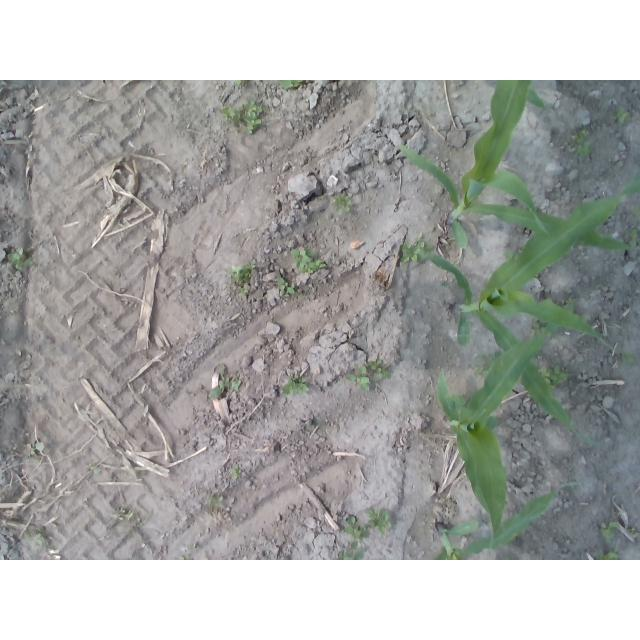Maize: (424, 182, 640, 445), (397, 80, 640, 256), (436, 300, 573, 557), (428, 480, 580, 561), (450, 81, 546, 112)
Weeds: (218, 99, 262, 134), (208, 365, 240, 400), (401, 233, 436, 264), (290, 248, 326, 274), (277, 278, 315, 299), (537, 364, 570, 388), (569, 127, 594, 157), (470, 351, 498, 377), (368, 509, 393, 535), (346, 365, 371, 391), (343, 514, 366, 542), (6, 247, 34, 270), (333, 542, 365, 560), (368, 359, 393, 382), (226, 265, 255, 284), (283, 374, 309, 395), (116, 508, 144, 526), (21, 531, 45, 550), (332, 193, 352, 212), (594, 548, 623, 560), (601, 521, 619, 540), (612, 107, 632, 123), (531, 317, 547, 336), (26, 441, 45, 455), (229, 464, 243, 481), (209, 493, 224, 508), (281, 80, 303, 90), (628, 227, 639, 246), (502, 250, 518, 261), (626, 526, 639, 538), (621, 352, 635, 363), (91, 465, 103, 475), (564, 297, 576, 304), (236, 287, 248, 294), (633, 209, 640, 220), (235, 80, 243, 84), (502, 557, 511, 560)
